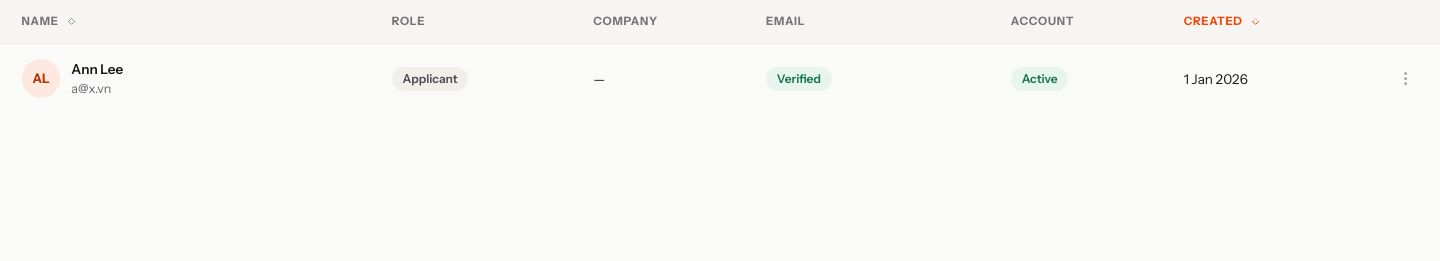
Test case: Users table row menu by status › offers Suspend for an active account
Click the button named "Actions for Ann Lee": {"x": 1405, "y": 79} left=1388, top=62, right=1423, bottom=96
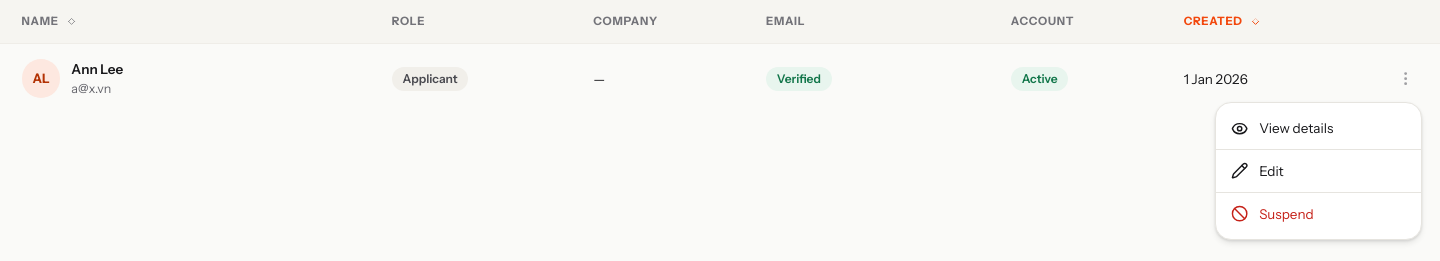
Expected: the menu item "Suspend" is shown, left=1216, top=192, right=1421, bottom=235
